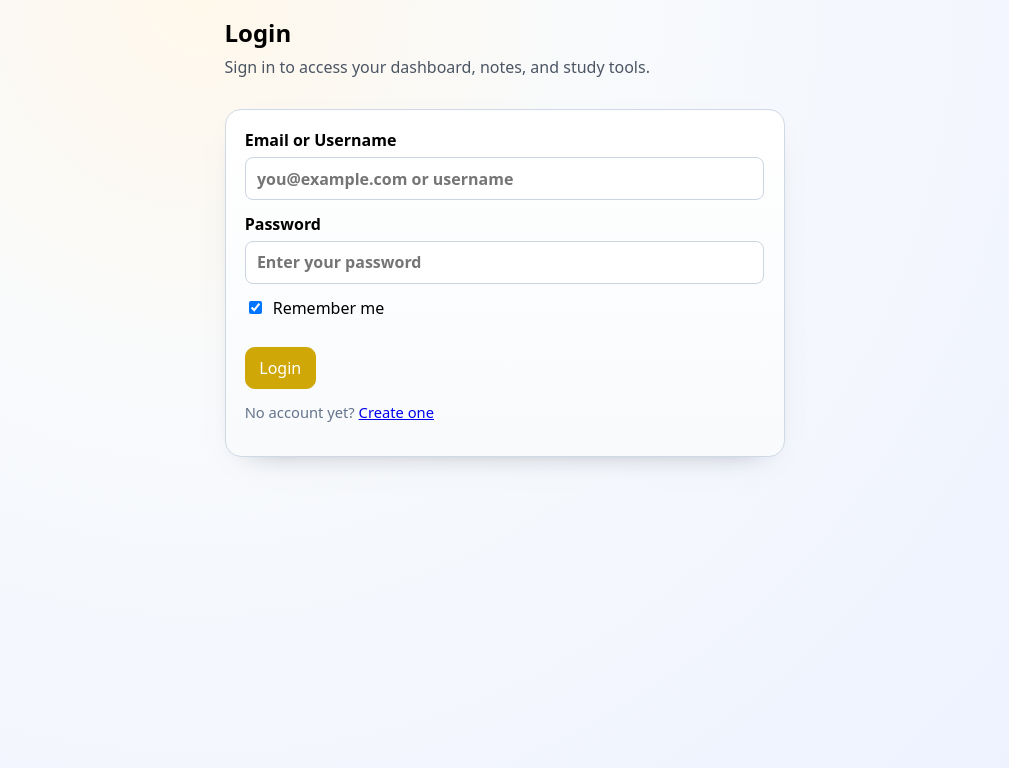
Test case: LoginPage › requires password to be non-empty
The width and height of the screenshot is (1024, 768).
Type "testuser" into the field labelled "Email or Username" at (504, 179), box [245,157,764,200]
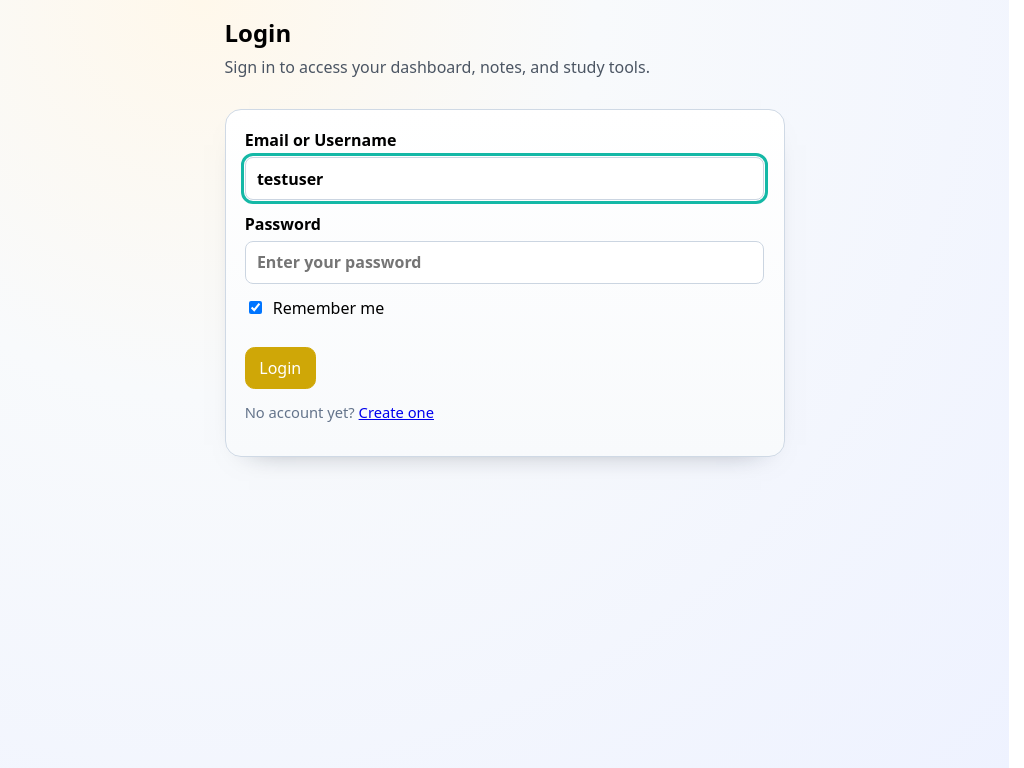
Click the button "Login" at (280, 368), box [245,347,316,389]
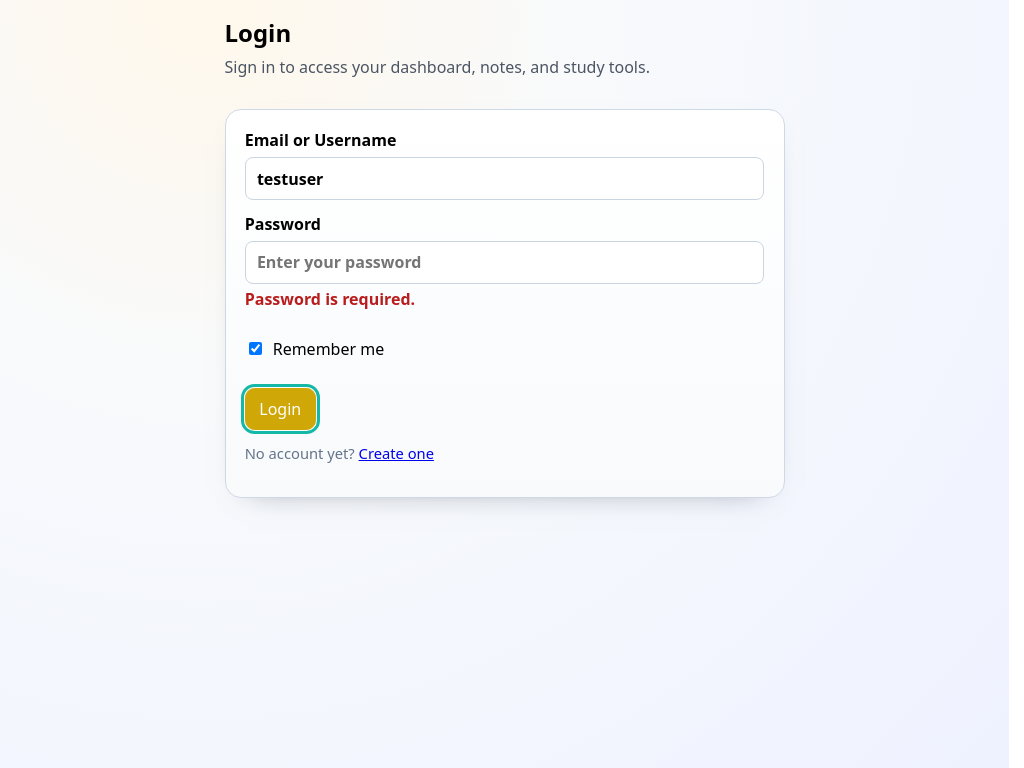
Expected: the text "Password is required." is shown, [245,288,415,310]
